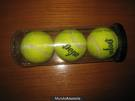tennis ball: (54, 27, 87, 66), (19, 30, 54, 66), (88, 25, 119, 61)
